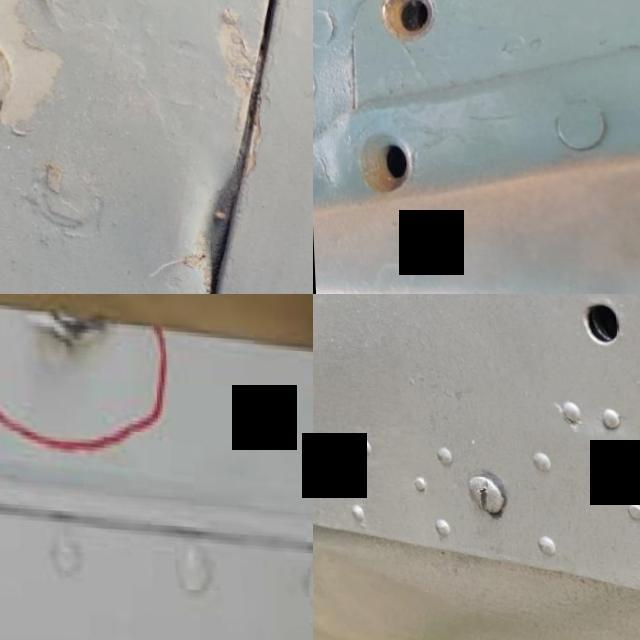Crack: (9, 304, 109, 343)
Dent: (164, 155, 271, 294)
Missing_Fastener: (320, 104, 442, 230), (537, 294, 640, 376), (347, 0, 469, 65)
